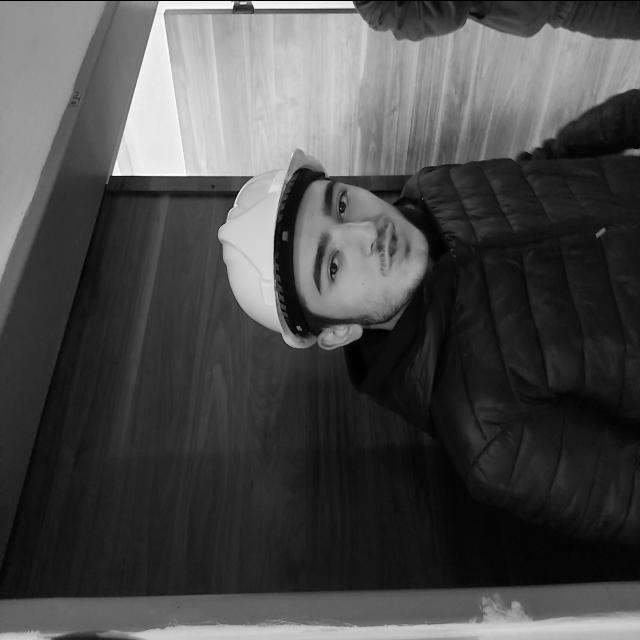construction helmet: (219, 148, 364, 350)
